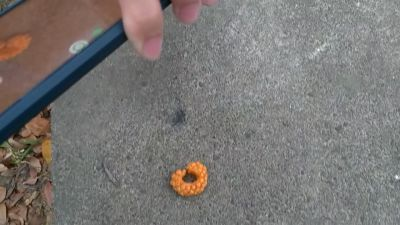eggs: (169, 160, 210, 198)
